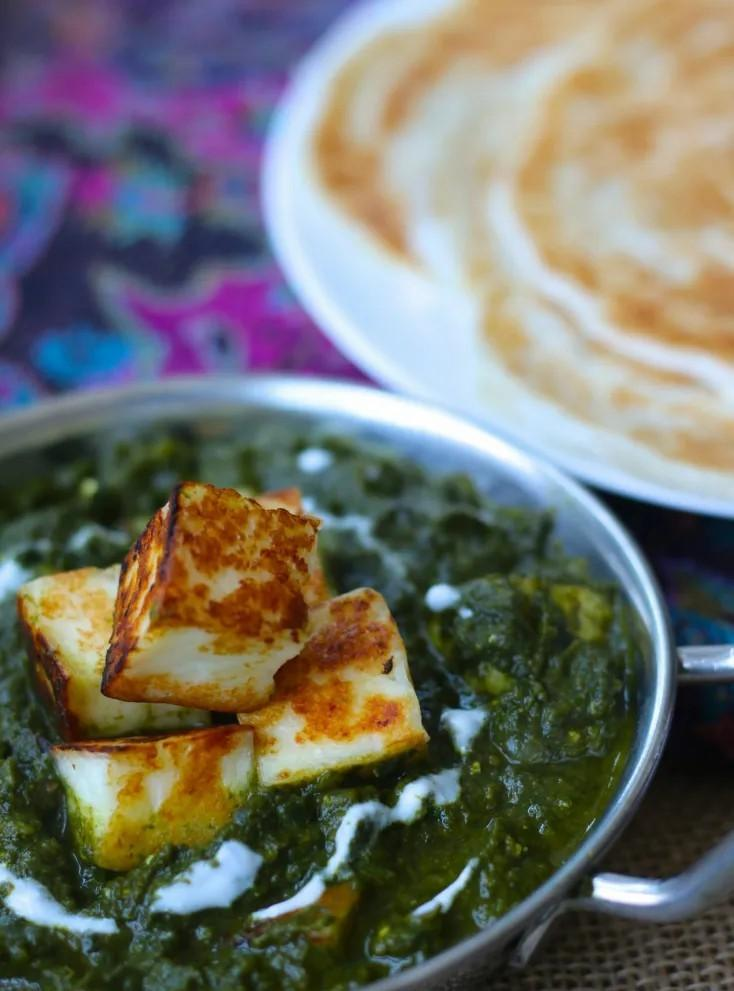PalakPaneer: (0, 430, 641, 991)
